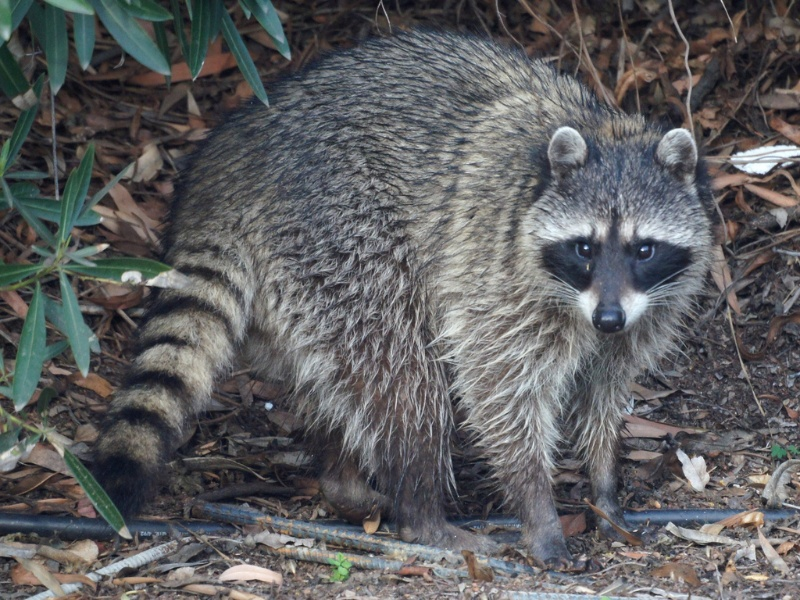raccoon: (95, 30, 716, 564)
